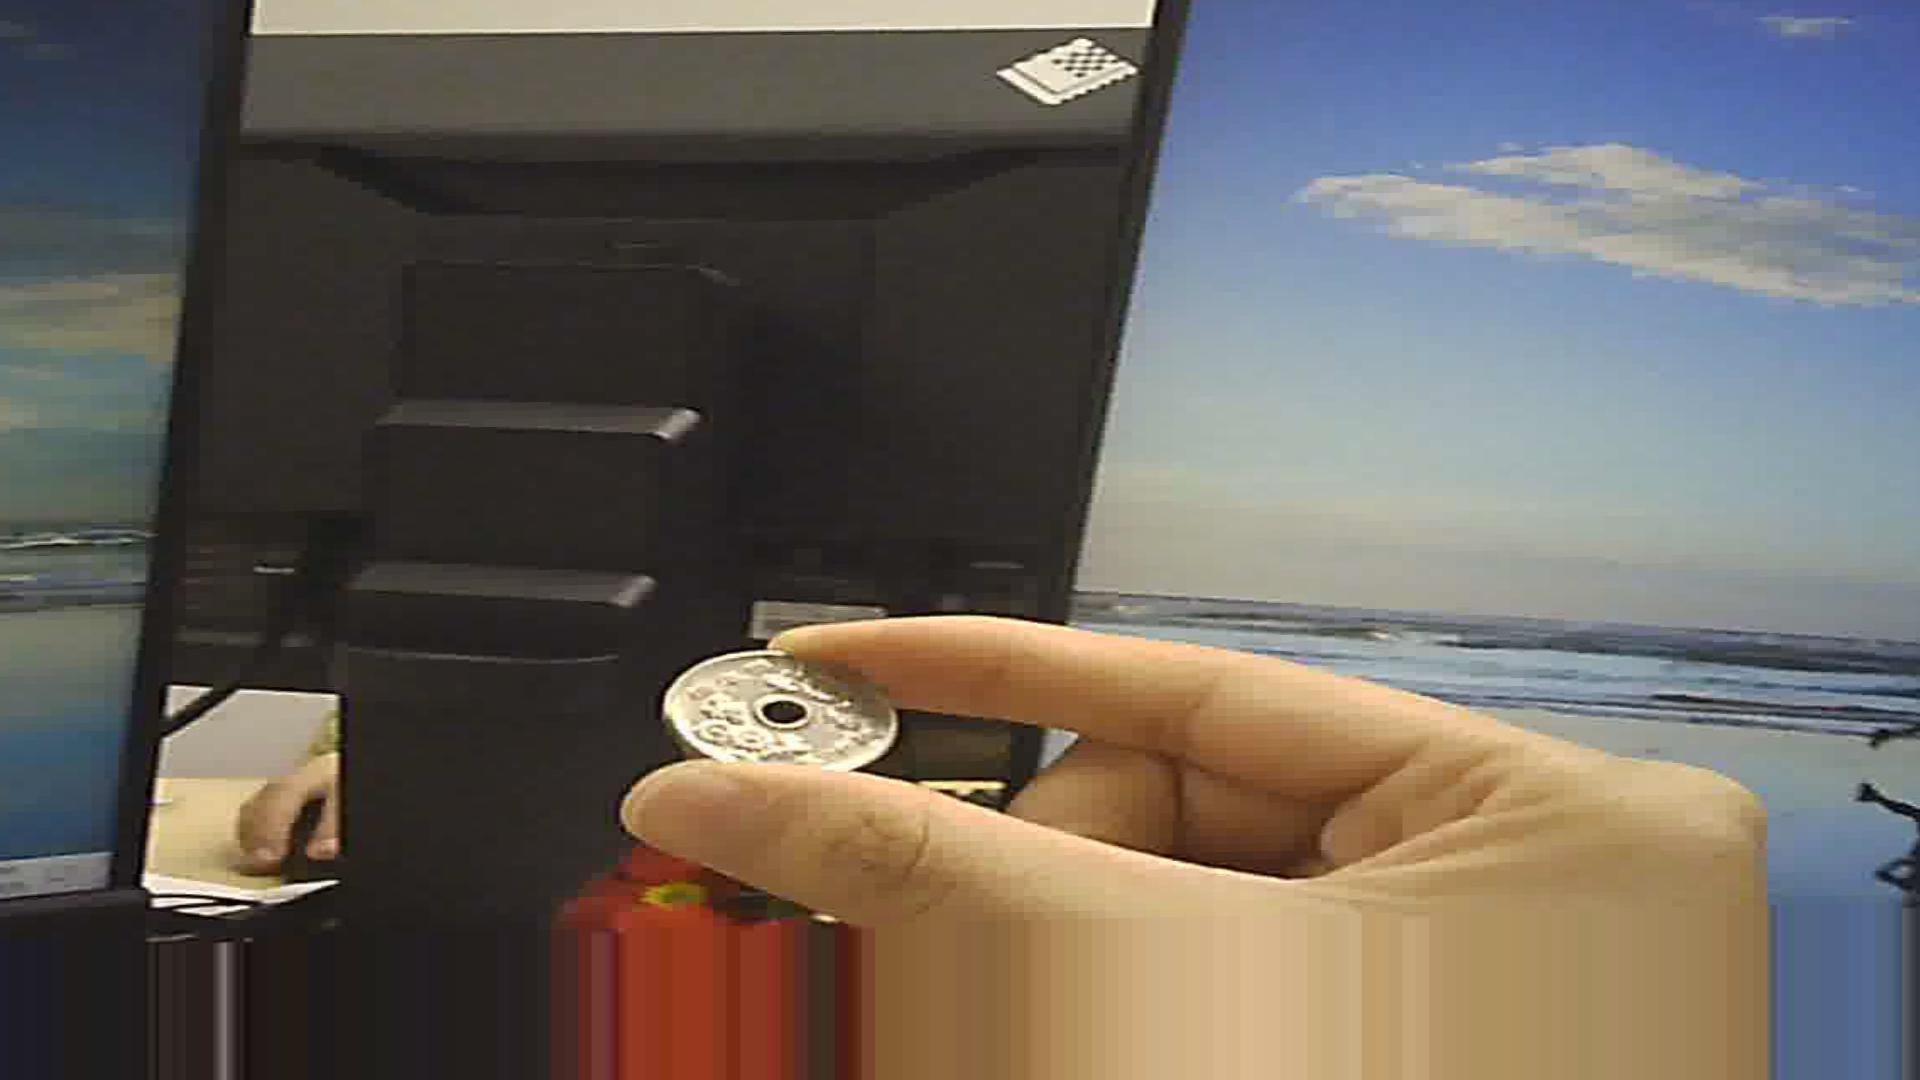50 Yen: (663, 618, 884, 800)
